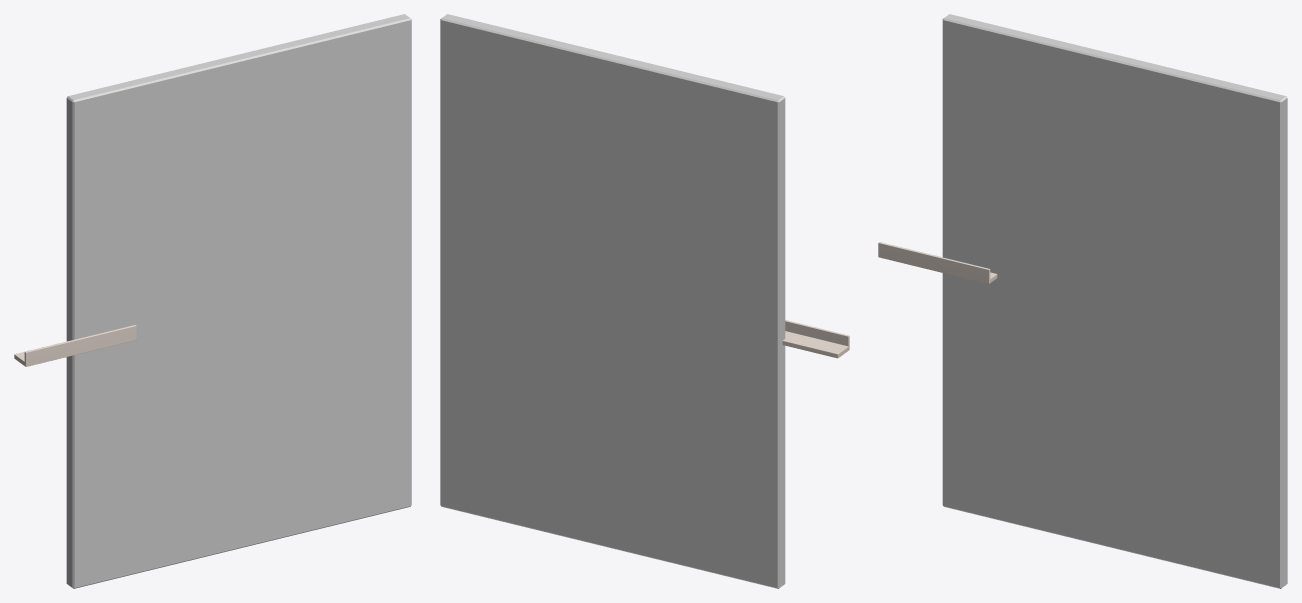
Rendered from Cabinet_ca1e417b.obj.
3 renders of one model, left to right at view 1: azimuth 30°, elevation 25°; view 2: azimuth 150°, elevation 25°; view 3: azimuth 330°, elevation 25°, orthographic.
Visible parts, largest first — view 1: DoorMesh_01_09b72e33, handle_3_178mm_01_eab055c4; view 2: DoorMesh_01_09b72e33, handle_3_178mm_01_eab055c4; view 3: DoorMesh_01_09b72e33, handle_3_178mm_01_eab055c4.
Part boxes in pixels (<box>): DoorMesh_01_09b72e33: <box>66,14,411,588</box>; handle_3_178mm_01_eab055c4: <box>14,325,136,366</box>; DoorMesh_01_09b72e33: <box>440,14,785,588</box>; handle_3_178mm_01_eab055c4: <box>782,320,849,358</box>; DoorMesh_01_09b72e33: <box>942,14,1287,588</box>; handle_3_178mm_01_eab055c4: <box>878,242,997,283</box>.
Bounding box in the file's own units: 0.634 × 0.75 × 0.0426.
